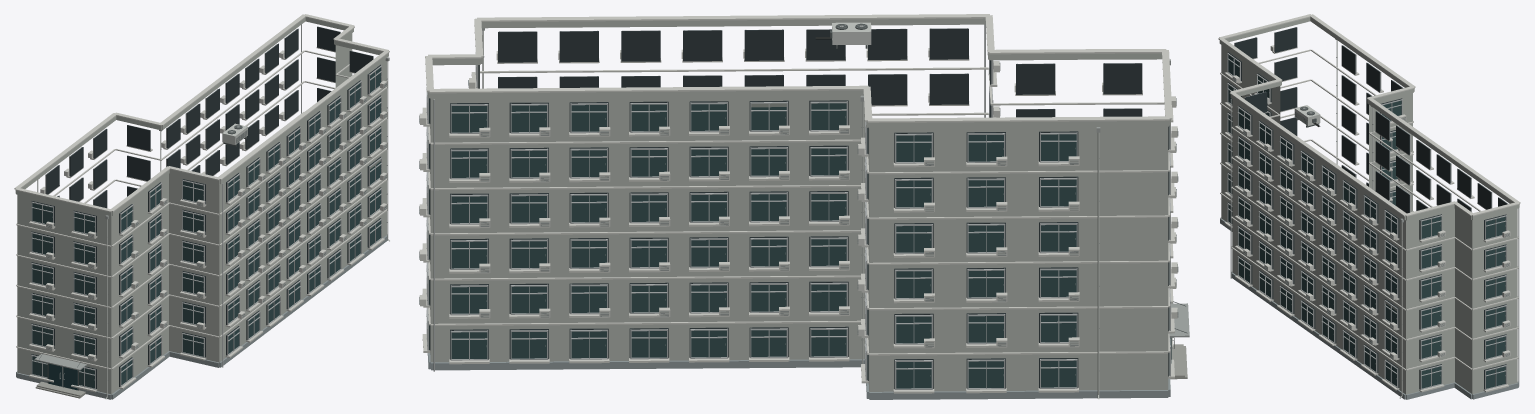
File: osm_way_225250618.glb
3 renders of one model, left to right at view 1: azimuth 30°, elevation 25°; view 2: azimuth 150°, elevation 25°; view 3: azimuth 270°, elevation 25°, orthographic. The views are drawn at different scales.
Visible parts, largest first — view 1: Windows and facade details | 37, Architecture | 37, Roof services | 37, EXTERIOR::osm_way_225250618::inferred entry doors canopy and, EXTERIOR::osm_way_225250618::rainwater and roof service deta; view 2: Architecture | 37, Windows and facade details | 37, Roof services | 37, EXTERIOR::osm_way_225250618::rainwater and roof service deta, EXTERIOR::osm_way_225250618::inferred entry doors canopy and; view 3: Windows and facade details | 37, Architecture | 37, Roof services | 37, EXTERIOR::osm_way_225250618::rainwater and roof service deta.
Boxes of the visible parts, x1=… form: Windows and facade details | 37: x1=29, y1=24, x2=387, y2=392; Architecture | 37: x1=15, y1=17, x2=388, y2=399; Roof services | 37: x1=14, y1=14, x2=389, y2=212; EXTERIOR::osm_way_225250618::inferred entry doors canopy and: x1=34, y1=350, x2=86, y2=398; EXTERIOR::osm_way_225250618::rainwater and roof service deta: x1=37, y1=57, x2=389, y2=399; Architecture | 37: x1=427, y1=18, x2=1170, y2=399; Windows and facade details | 37: x1=419, y1=24, x2=1178, y2=393; Roof services | 37: x1=425, y1=14, x2=1172, y2=122; EXTERIOR::osm_way_225250618::rainwater and roof service deta: x1=482, y1=22, x2=1170, y2=399; EXTERIOR::osm_way_225250618::inferred entry doors canopy and: x1=1169, y1=301, x2=1189, y2=379; Windows and facade details | 37: x1=1224, y1=27, x2=1519, y2=392; Architecture | 37: x1=1219, y1=17, x2=1519, y2=399; Roof services | 37: x1=1218, y1=14, x2=1520, y2=216; EXTERIOR::osm_way_225250618::rainwater and roof service deta: x1=1294, y1=39, x2=1403, y2=398.
Bounding box in the file's own units: 46.25 × 20.58 × 29.24.
